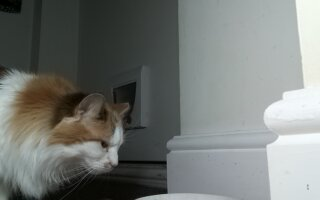clara: (1, 63, 129, 198)
